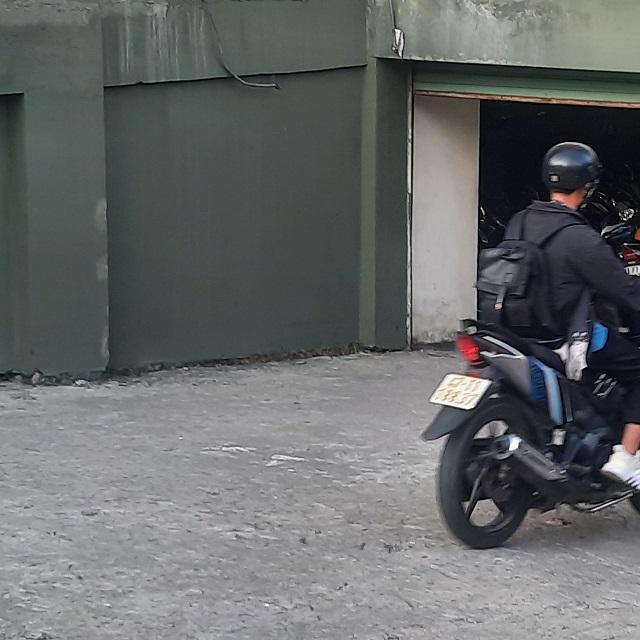Helmet: (542, 138, 606, 214)
